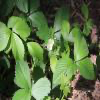Strawberry leaf: (52, 56, 78, 90), (73, 30, 90, 62), (15, 59, 31, 91), (10, 31, 25, 63), (77, 55, 95, 80), (31, 77, 51, 99), (12, 18, 32, 37), (0, 27, 11, 49)
